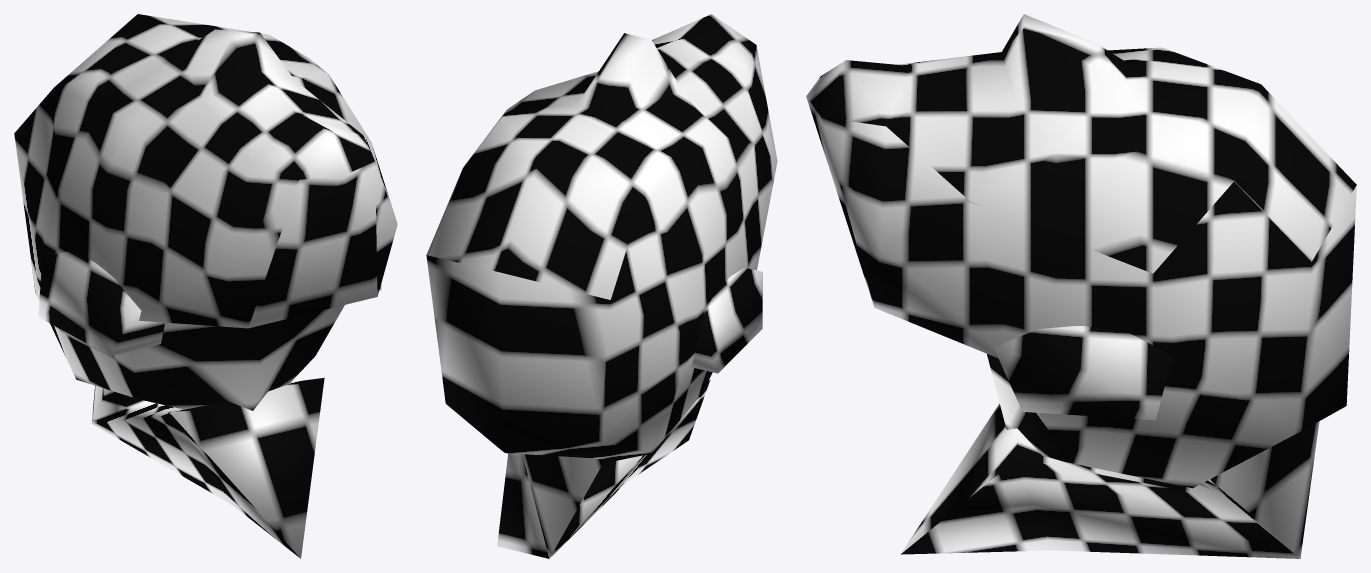
Rendered from infaunhumath3.dae.
3 views of the same model, side by side, from view 1: azimuth 30°, elevation 25°; view 2: azimuth 150°, elevation 25°; view 3: azimuth 270°, elevation 25° (orthographic). The views are drawn at different scales.
Parts seen in each view (by area): view 1: face; view 2: face; view 3: face.
Boxes of the visible parts, x1,y1,x2,y2 form: face: (14,14,397,558); face: (426,14,777,558); face: (806,14,1356,558).
Bounding box in the file's own units: 0.9072 × 1.33 × 1.42.
Materials: 1 (1 with a texture image).
